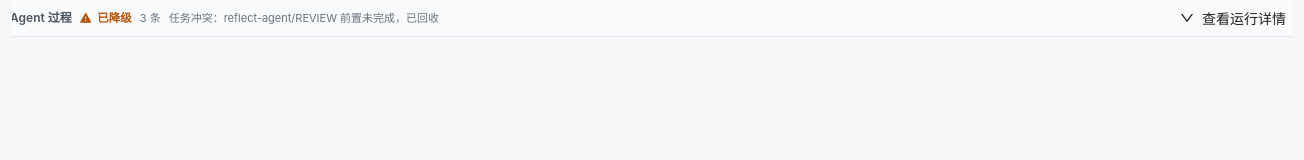
AgentActivityPanel › Batch 15：delegate/recover/conflict 渲染委派、重派、冲突文案
Step 1. Click the button "查看运行详情" → [1232, 18], box [1172, 6, 1292, 30]
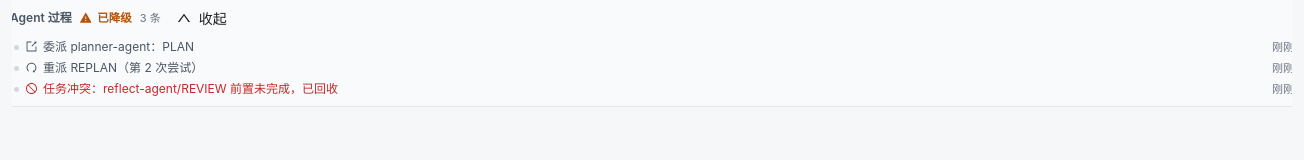
Check: the text "任务冲突：reflect-agent/REVIEW 前置未完成，已回收" is shown, box [43, 81, 338, 96]
Check: the text "委派 planner-agent：PLAN" is shown, box [43, 39, 194, 54]
Check: the text "重派 REPLAN（第 2 次尝试）" is shown, box [43, 60, 203, 75]
